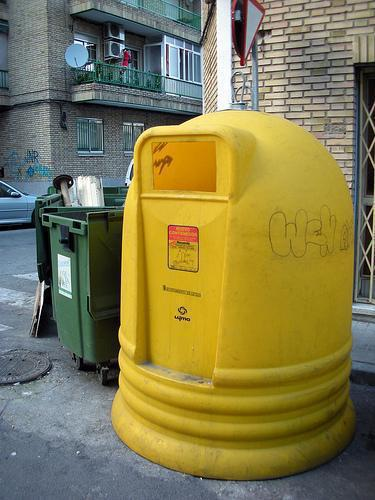Bote de Basura: (130, 110, 359, 484)
